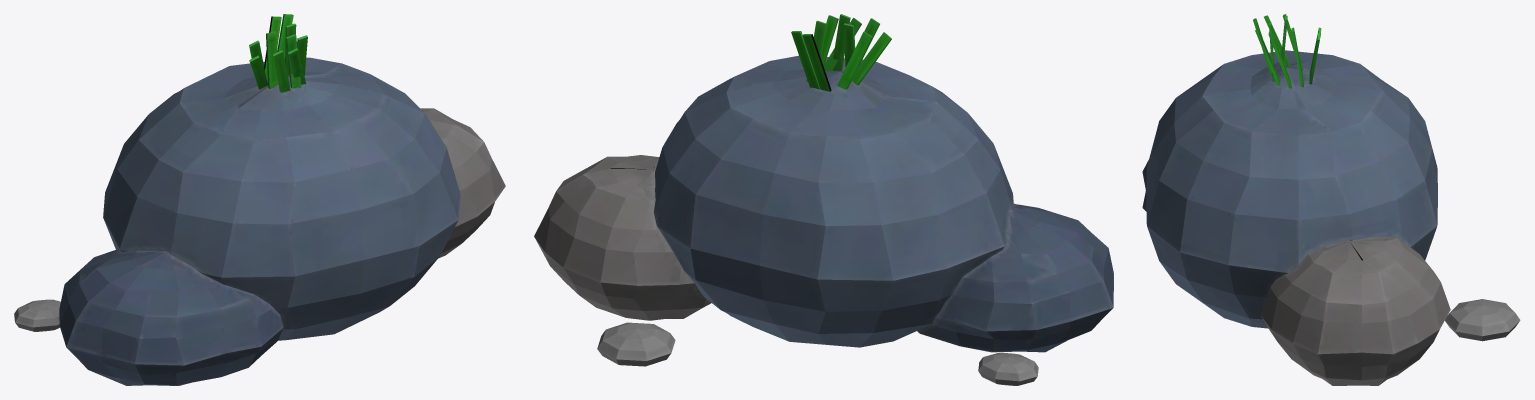
File: RockCluster.glb
3 renders of one model, left to right at view 1: azimuth 30°, elevation 25°; view 2: azimuth 150°, elevation 25°; view 3: azimuth 270°, elevation 25°, orthographic. The views are drawn at different scales.
Parts seen in each view (by area): view 1: RockCluster; view 2: RockCluster; view 3: RockCluster.
Part boxes in pixels (box(x1,y1,x2,y2)): RockCluster: box(14, 14, 505, 385); RockCluster: box(534, 14, 1113, 385); RockCluster: box(1142, 14, 1520, 385).
Size of the model in its own units: 4.23 by 2.5 by 2.98.
Materials: 1 (1 with a texture image).
